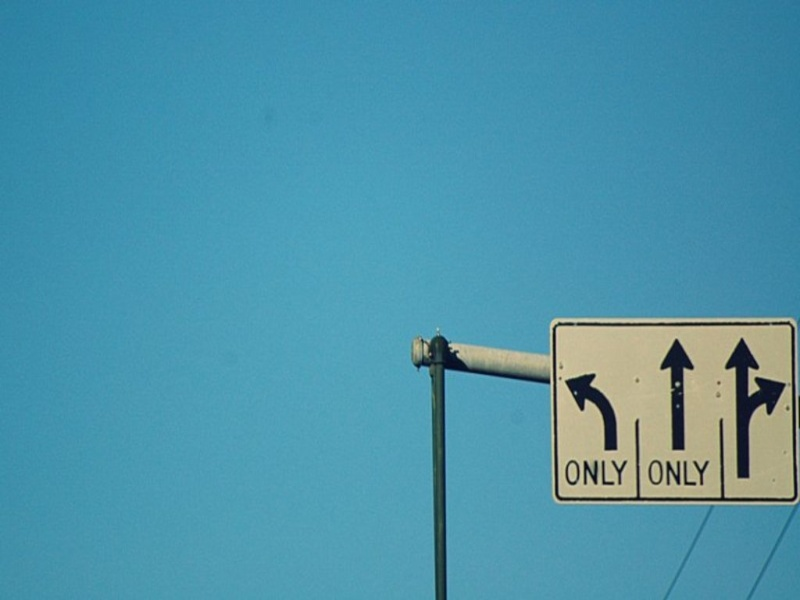left_direction: (554, 373, 637, 500)
straight_direction: (649, 341, 717, 494)
